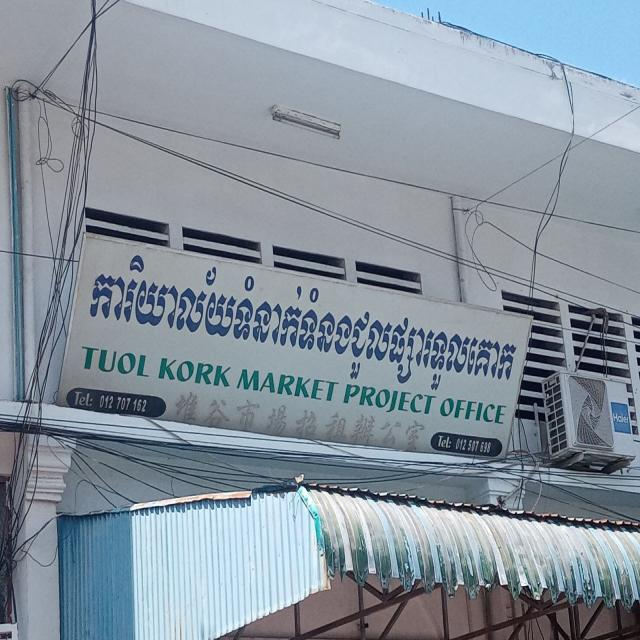Yolov11_80vkh: (80, 235, 532, 413)
